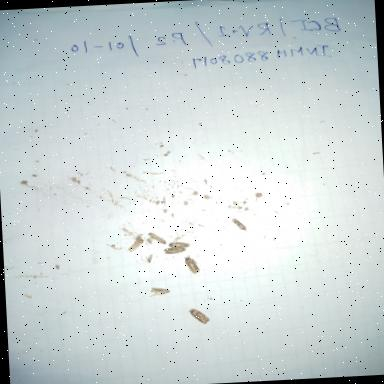pbw: (138, 278, 174, 302), (221, 212, 254, 234), (144, 226, 172, 246), (180, 253, 202, 277), (124, 230, 144, 254), (188, 306, 212, 326), (162, 244, 189, 255), (167, 238, 192, 249)
